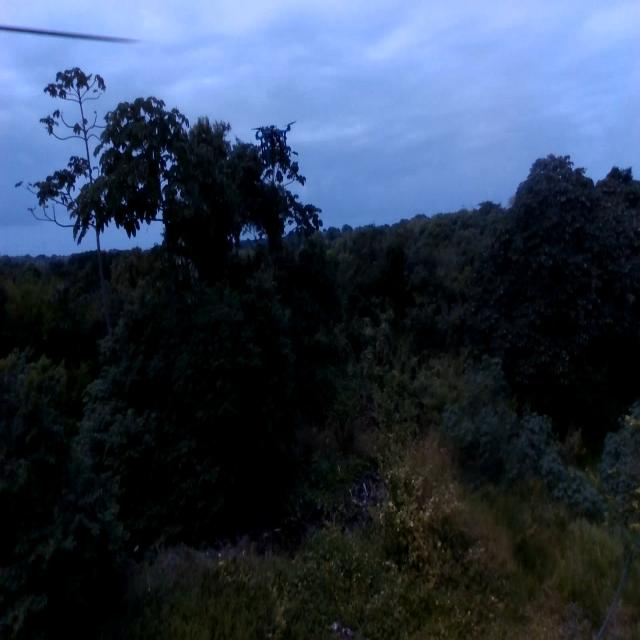-uav-: (253, 117, 298, 176)
